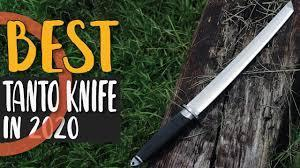Knife: (132, 0, 295, 165)
